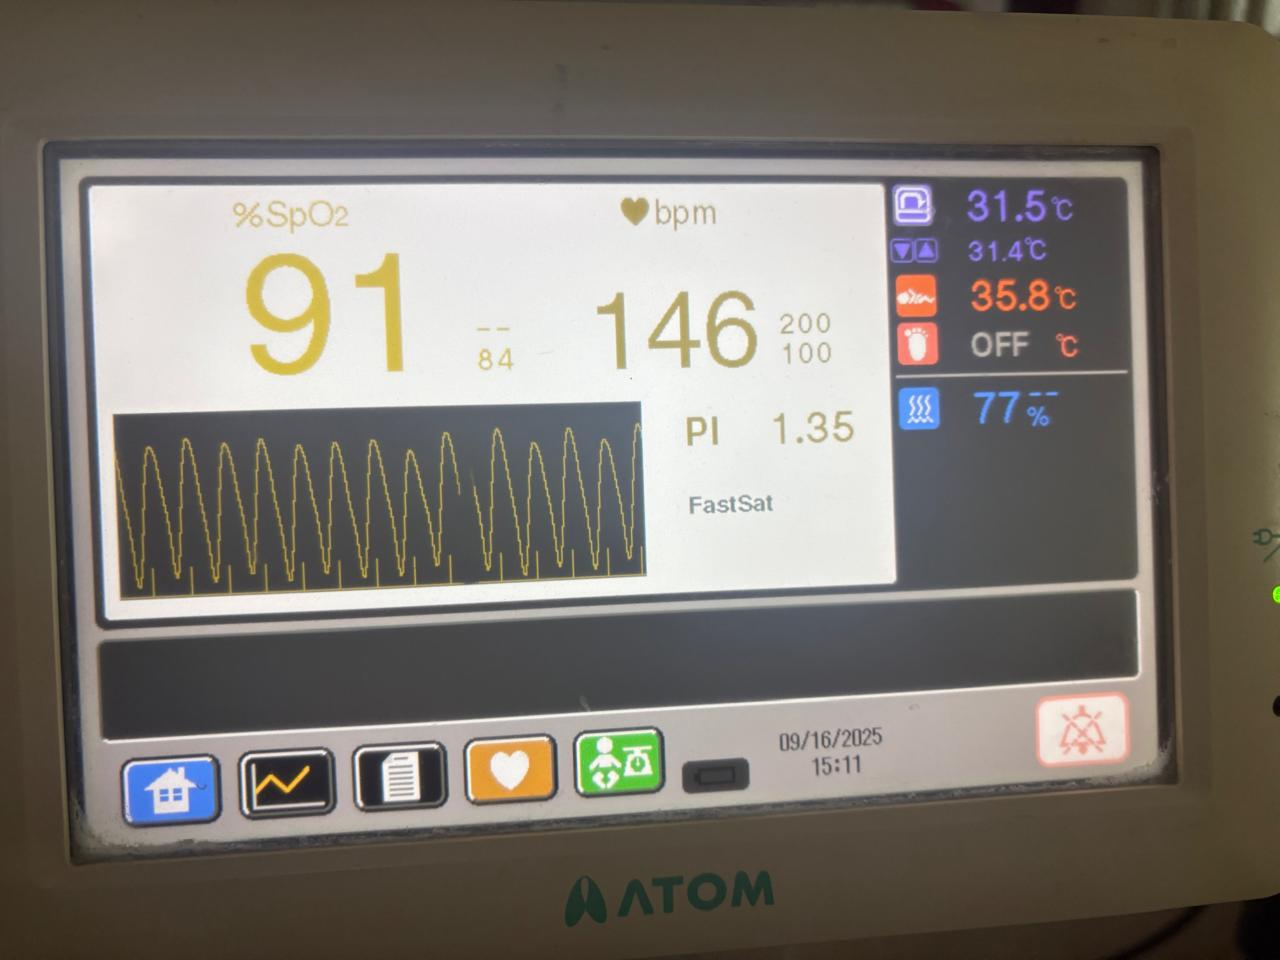heart_rate_value: (573, 275, 763, 389)
humidity_value: (961, 381, 1030, 441)
skin_temp_value: (964, 265, 1052, 324)
spo2_value: (224, 245, 434, 390)
